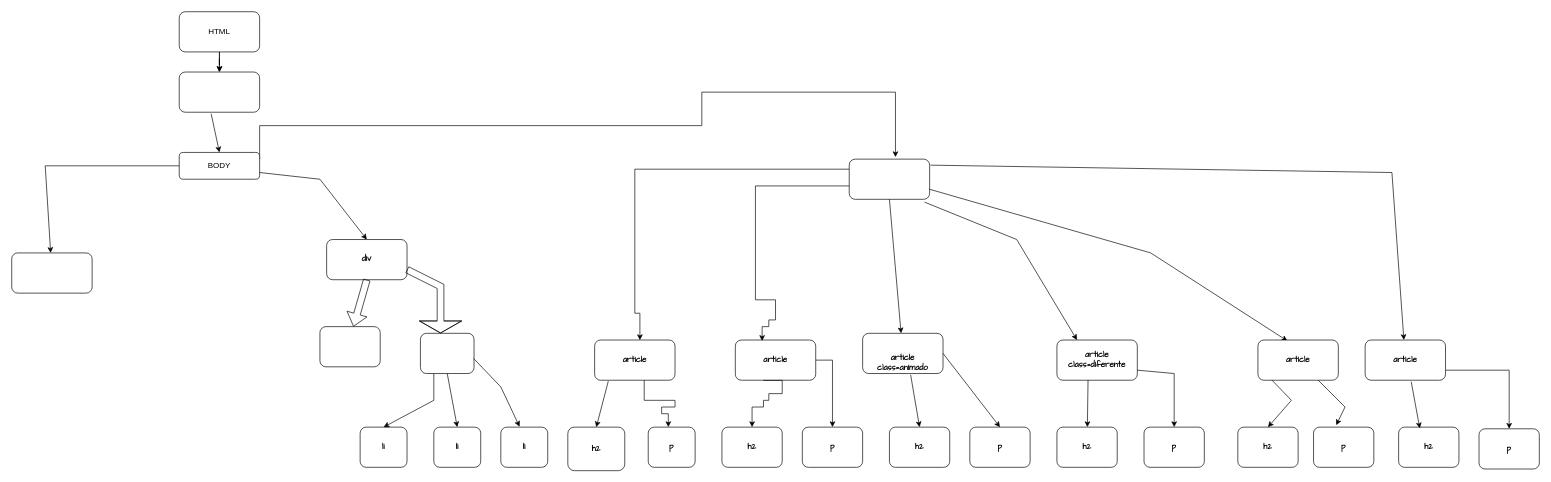
Some shapes in this 1551 by 482 pixel diagram are drawn without their labels. The centre of each missing label's shape, as x and y in pixels:
h1: the point at 51,272
h5: the point at 349,346
HEAD: the point at 219,91
section: the point at 889,178
ul: the point at 447,353
